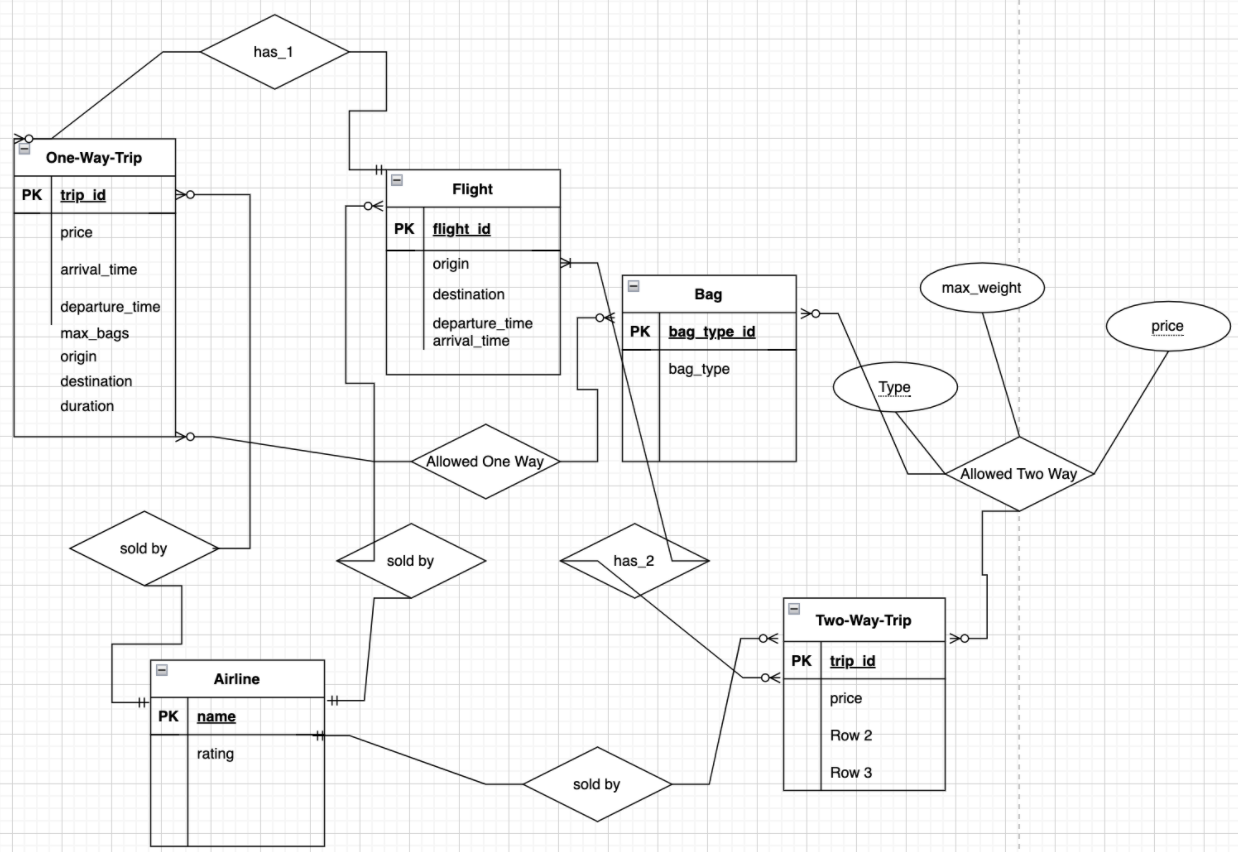entity: (12, 137, 175, 436), (386, 167, 561, 375), (623, 273, 795, 462), (152, 659, 324, 845), (785, 597, 943, 790)
many: (797, 297, 839, 333), (947, 622, 984, 655), (173, 182, 210, 210), (350, 193, 388, 220), (743, 624, 780, 648), (7, 125, 45, 148), (744, 667, 783, 689), (169, 424, 203, 447), (588, 303, 618, 328), (557, 250, 584, 275)
one: (324, 684, 358, 716), (123, 687, 151, 714), (360, 158, 388, 179), (311, 724, 333, 747)
rel: (70, 510, 219, 588), (199, 14, 349, 91), (413, 423, 560, 500), (338, 522, 486, 598), (941, 437, 1096, 509), (561, 524, 711, 598), (525, 747, 671, 821)
rel_attr: (1103, 299, 1232, 353), (833, 360, 960, 412), (920, 262, 1046, 313)
